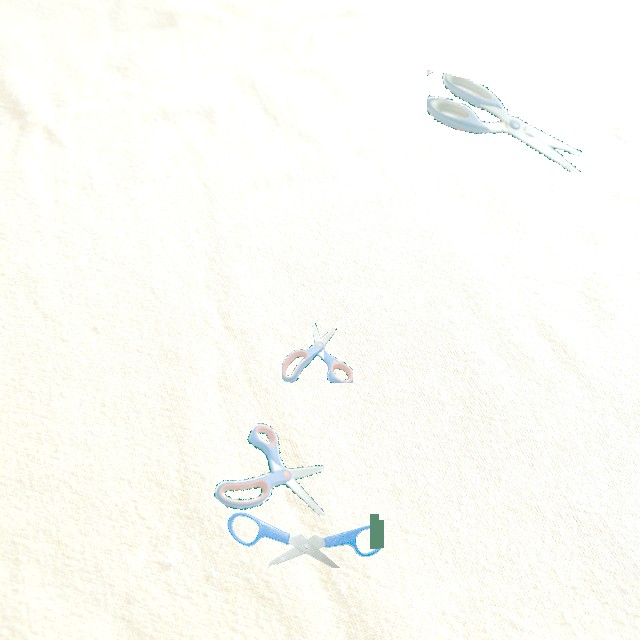scissors: (427, 70, 582, 172), (214, 423, 324, 516), (227, 512, 384, 568), (282, 322, 353, 383)
